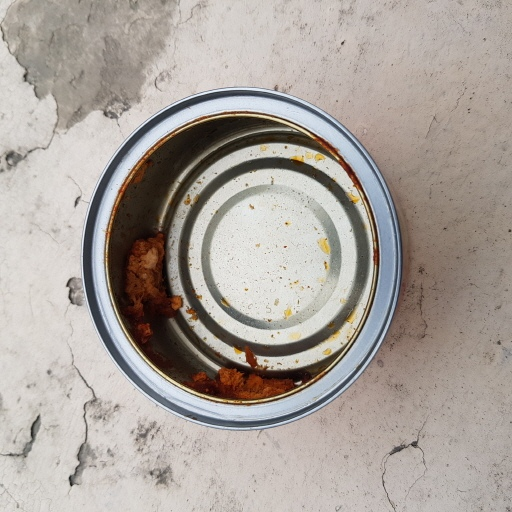Metal_1: (83, 89, 403, 430)
